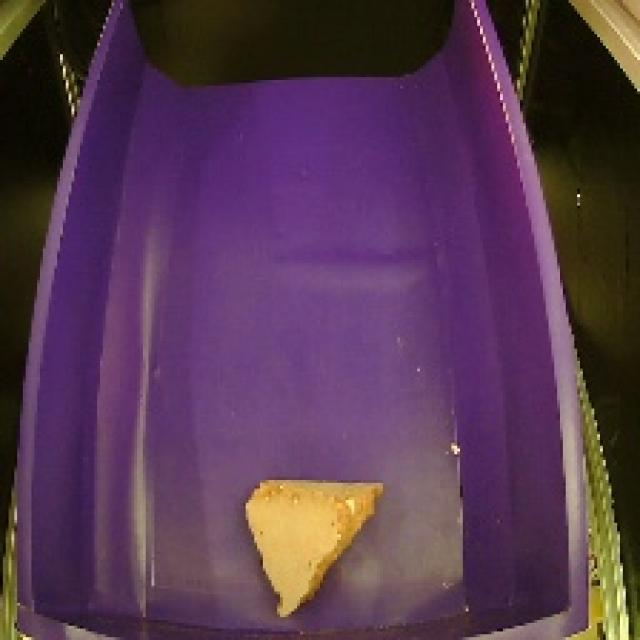brick: (233, 462, 397, 622)
